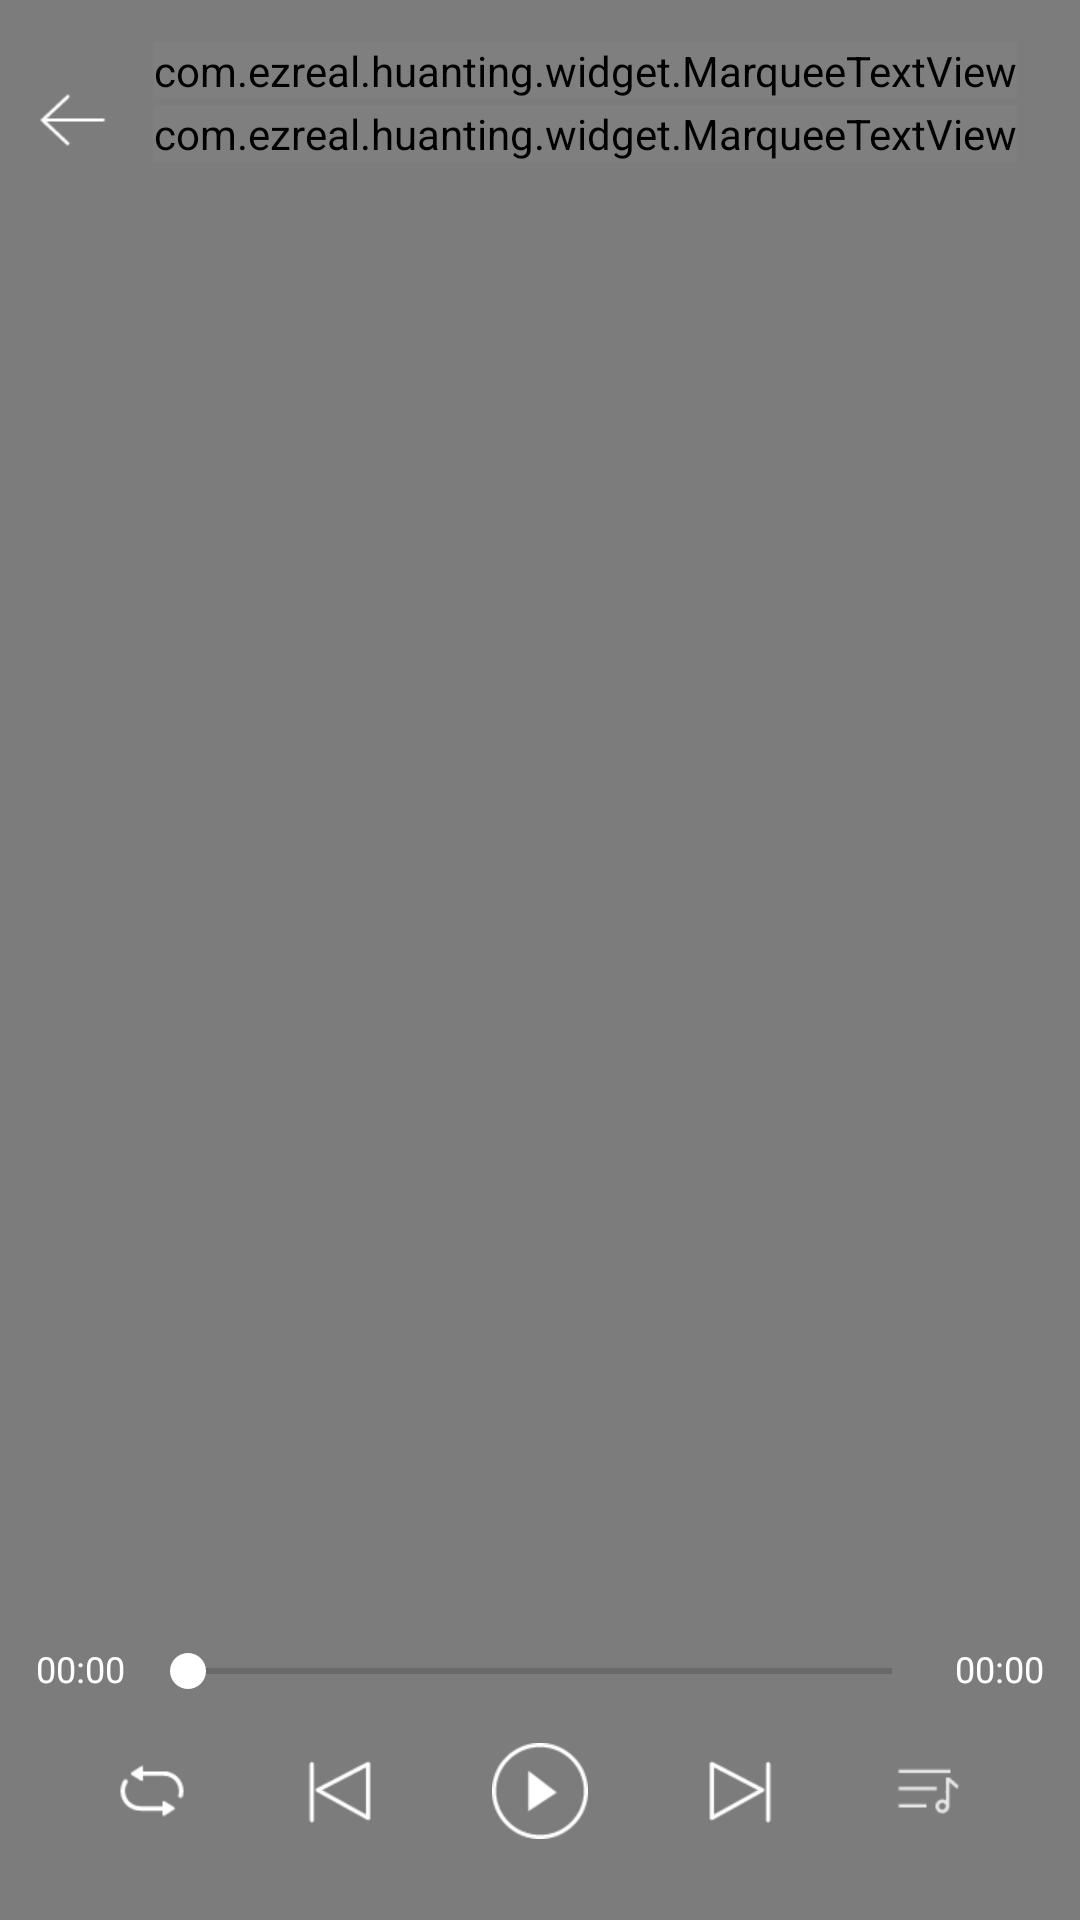

Point at icon controls on the screen. Image size 1080px×1920px, points as (x=x, y=y).
list recycle: (x=152, y=1791)
music list: (x=928, y=1791)
next item: (x=740, y=1792)
play: (x=540, y=1791)
pre item: (x=340, y=1792)
title back: (x=72, y=120)
